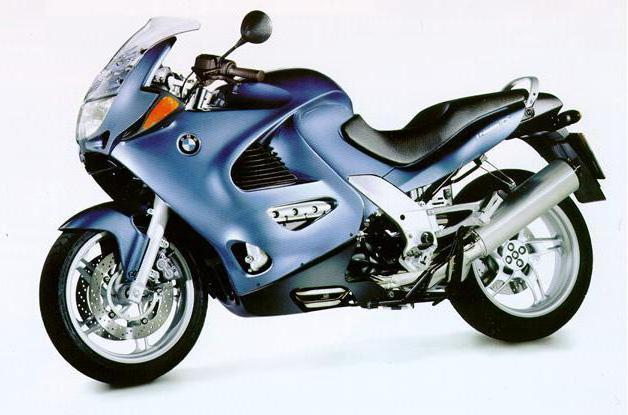motorcycle: (30, 1, 620, 398)
